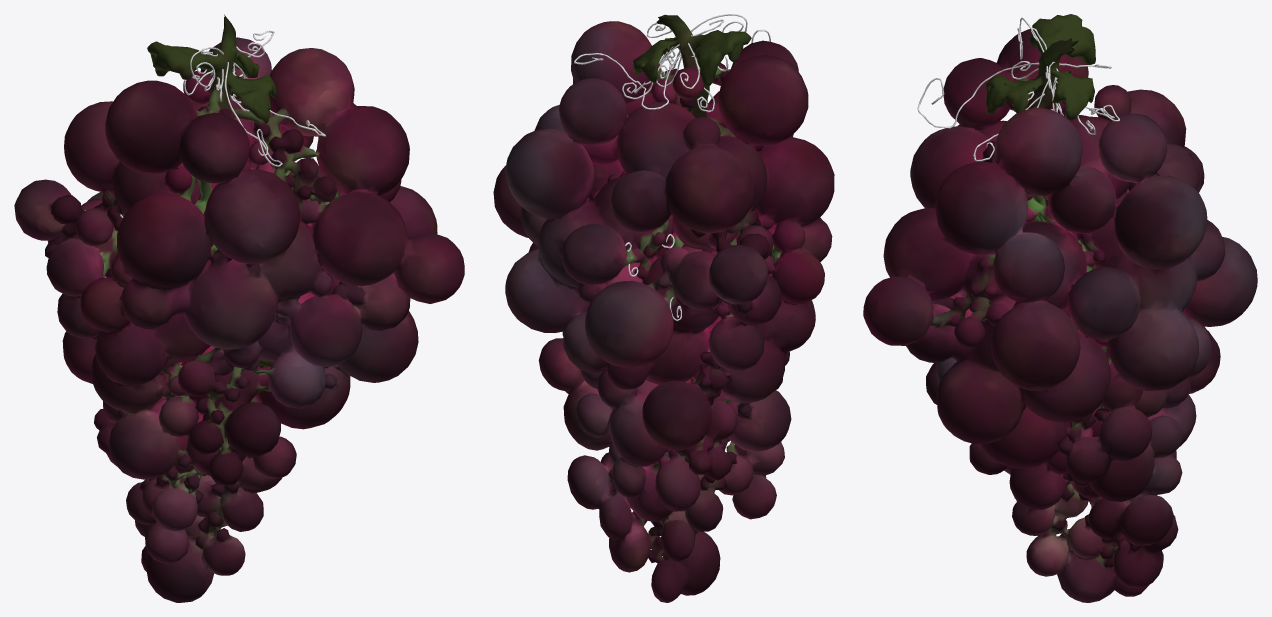
Rendered from grapes-10.fbx.
The picture shows the model from 3 angles, left to right: view 1: azimuth 30°, elevation 25°; view 2: azimuth 150°, elevation 25°; view 3: azimuth 270°, elevation 25°; orthographic projection. The views are drawn at different scales.
Parts seen in each view (by area): view 1: Layer_1, Layer_2; view 2: Layer_1, Layer_2; view 3: Layer_1, Layer_2.
Boxes of the visible parts, x1=… form: Layer_1: x1=14, y1=14, x2=464, y2=602; Layer_2: x1=84, y1=30, x2=325, y2=217; Layer_1: x1=493, y1=14, x2=834, y2=602; Layer_2: x1=574, y1=14, x2=770, y2=321; Layer_1: x1=863, y1=14, x2=1257, y2=602; Layer_2: x1=917, y1=17, x2=1119, y2=161.
Bounding box in the file's own units: 0.5998 × 0.5999 × 0.972.
